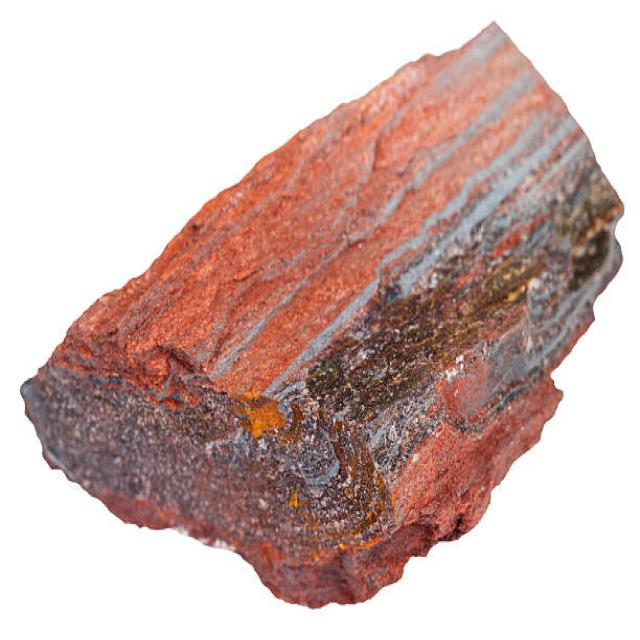Metamorphic: (16, 23, 606, 590)
